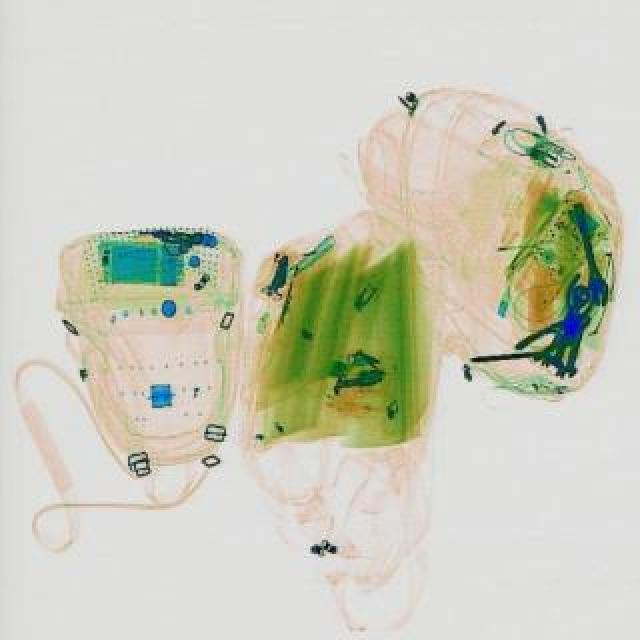scissors: (566, 202, 610, 308), (556, 310, 592, 378)
wrench: (514, 306, 582, 364), (550, 270, 600, 330)
